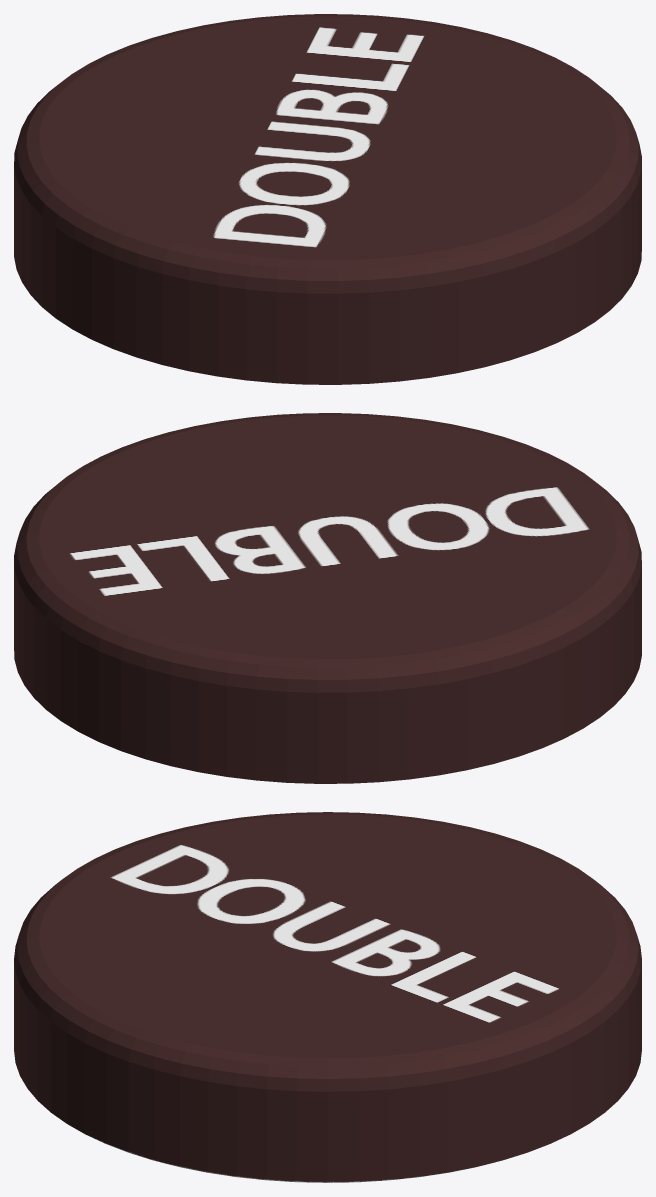
Rendered from Button_double.gltf.
3 renders of one model, top to bottom at view 1: azimuth 30°, elevation 25°; view 2: azimuth 150°, elevation 25°; view 3: azimuth 270°, elevation 25°, orthographic.
Visible parts, largest first — view 1: Cylinder; view 2: Cylinder; view 3: Cylinder.
Boxes of the visible parts, x1,y1,x2,y2 form: Cylinder: [14, 14, 641, 384]; Cylinder: [14, 413, 641, 783]; Cylinder: [14, 812, 641, 1182].
Size of the model in its own units: 0.1 by 0.02 by 0.1.
Materials: 1 (1 with a texture image).
